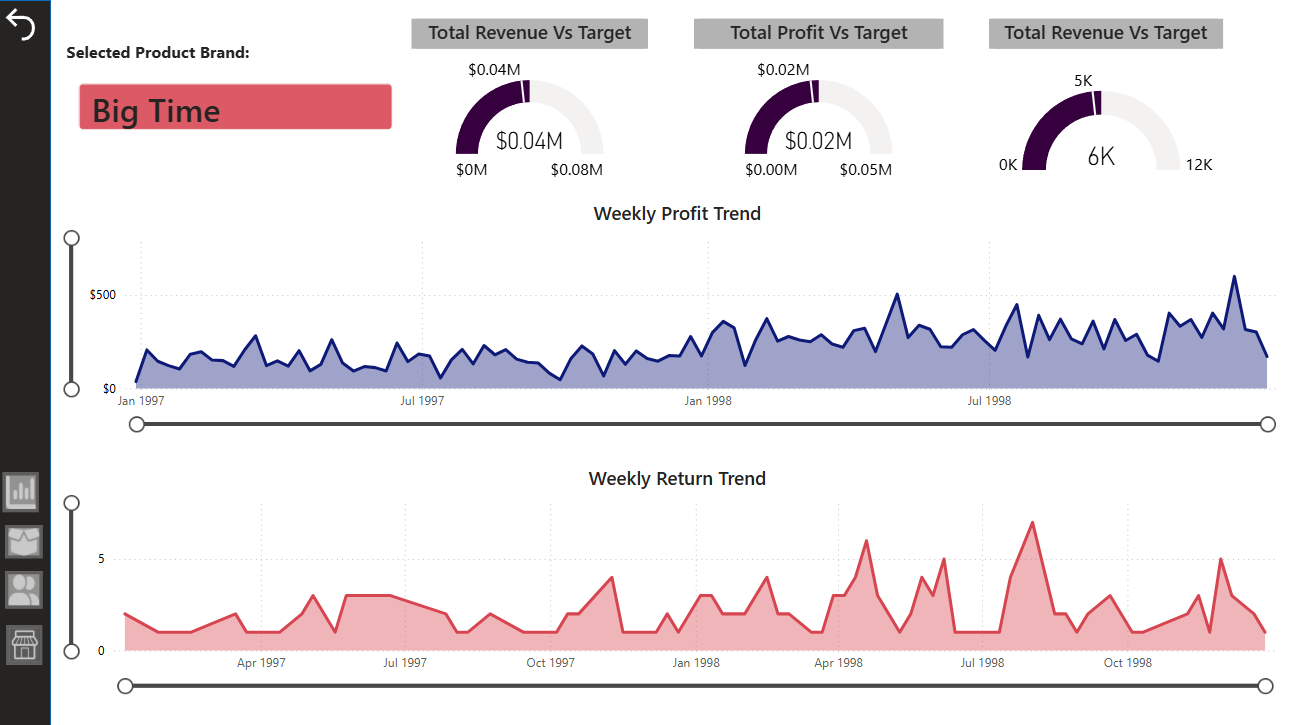

Layout of this report page (visuals, bound fields, positions):
{"tool":"powerbi","page":{"name":"Product ","canvas":[1280,720],"ordinal":1},"visuals":[{"type":"shape","box":[0,0,51.4,720.2],"z":0},{"type":"cardVisual","fields":{"Data":["Min(Products_lookup.product_brand)"]},"box":[61.1,66,344.8,80.7],"z":1000},{"type":"textbox","box":[61.1,34.2,322.8,31.8],"z":2000},{"type":"gauge","title":"Total Revenue Vs Target","fields":{"TargetValue":["Measure.Previous Month Revenue"],"Y":["Measure.Total Revenue"]},"box":[406.9,18.8,233.7,170.2],"z":3000},{"type":"gauge","title":"Total Profit Vs Target","fields":{"TargetValue":["Measure.Previous Month Profit"],"Y":["Measure.Total Profit"]},"box":[686.8,18.8,246.7,170.2],"z":4000},{"type":"gauge","title":"Total Revenue Vs Target","fields":{"TargetValue":["Measure.Previous Month Transactions"],"Y":["Measure.Total Transactions"]},"box":[978.2,18.8,230.8,170.2],"z":5000},{"type":"lineChart","title":"Weekly Profit Trend","fields":{"Category":["Calendar.Start of Week.Variation.Date Hierarchy.Year","Calendar.Start of Week.Variation.Date Hierarchy.Quarter","Calendar.Start of Week.Variation.Date Hierarchy.Month","Calendar.Start of Week.Variation.Date Hierarchy.Day"],"Y":["Measure.Total Profit"]},"box":[60.6,197.7,1219.1,232.3],"z":6000},{"type":"lineChart","title":"Weekly Return Trend","fields":{"Category":["Calendar.Start of Week.Variation.Date Hierarchy.Year","Calendar.Start of Week.Variation.Date Hierarchy.Quarter","Calendar.Start of Week.Variation.Date Hierarchy.Month","Calendar.Start of Week.Variation.Date Hierarchy.Day"],"Y":["Measure.Total Returns"]},"box":[60.6,458.8,1219.1,229.4],"z":7000},{"type":"actionButton","box":[0,2.4,67.3,42.8],"z":8001},{"type":"actionButton","box":[3.7,467.1,35.5,39.1],"z":8002},{"type":"actionButton","box":[6.1,518.5,36.7,33],"z":8003},{"type":"actionButton","box":[6.1,563.7,36.7,36.7],"z":8004},{"type":"actionButton","box":[7.3,617.5,35.5,39.1],"z":8005}]}

Visuals, with their boxes on the page's 1280x720 design canvas (x1, y1, x2, y2). These are canvas units, not pixel positions in the 1296x725 screenshot, which may show the page scaled, cropped or inside an application window:
shape: [x1=0, y1=0, x2=51, y2=720]
cardVisual - Min(Products_lookup.product_brand): [x1=61, y1=66, x2=406, y2=147]
textbox: [x1=61, y1=34, x2=384, y2=66]
"Total Revenue Vs Target" gauge: [x1=407, y1=19, x2=641, y2=189]
"Total Profit Vs Target" gauge: [x1=687, y1=19, x2=934, y2=189]
"Total Revenue Vs Target" gauge: [x1=978, y1=19, x2=1209, y2=189]
"Weekly Profit Trend" lineChart: [x1=61, y1=198, x2=1280, y2=430]
"Weekly Return Trend" lineChart: [x1=61, y1=459, x2=1280, y2=688]
actionButton: [x1=0, y1=2, x2=67, y2=45]
actionButton: [x1=4, y1=467, x2=39, y2=506]
actionButton: [x1=6, y1=518, x2=43, y2=552]
actionButton: [x1=6, y1=564, x2=43, y2=600]
actionButton: [x1=7, y1=618, x2=43, y2=657]
